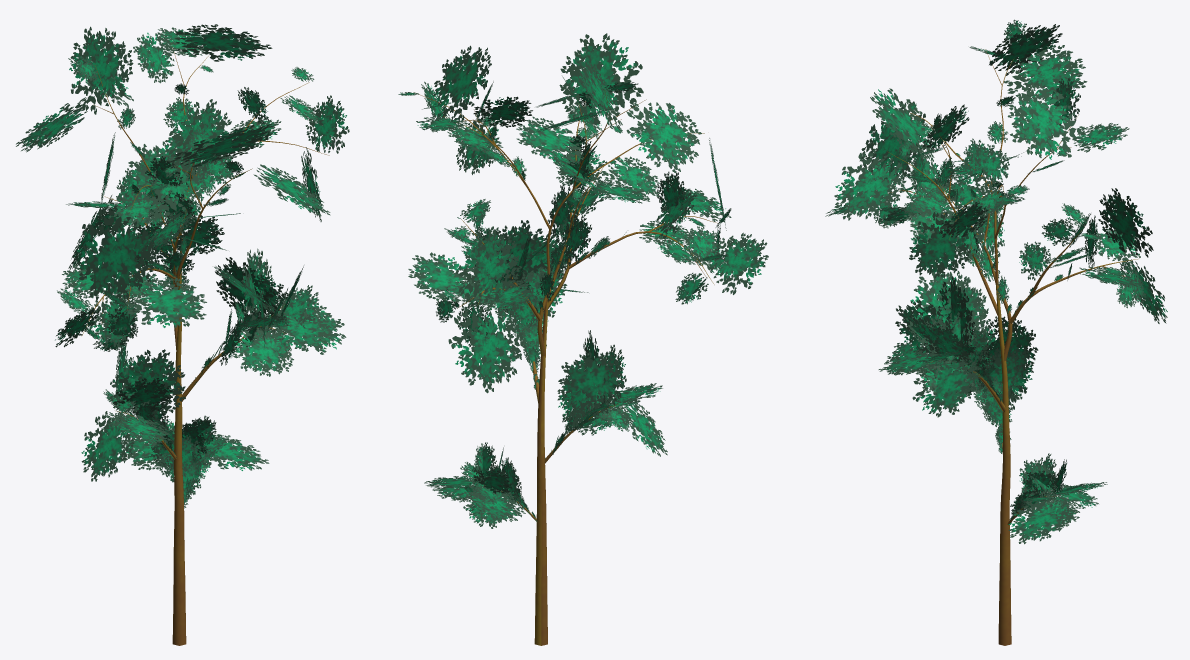
Rendered from Boom Harrie.fbx.
The picture shows the model from 3 angles, left to right: view 1: azimuth 30°, elevation 25°; view 2: azimuth 150°, elevation 25°; view 3: azimuth 270°, elevation 25°; orthographic projection. The views are drawn at different scales.
Visible parts, largest first — view 1: tree:Mesh; view 2: tree:Mesh; view 3: tree:Mesh.
Boxes of the visible parts, x1=… form: tree:Mesh: x1=16, y1=24, x2=349, y2=645; tree:Mesh: x1=398, y1=33, x2=768, y2=645; tree:Mesh: x1=825, y1=19, x2=1167, y2=645.
Size of the model in its own units: 2.48 by 4.48 by 2.45.
Materials: 1 (1 with a texture image).
